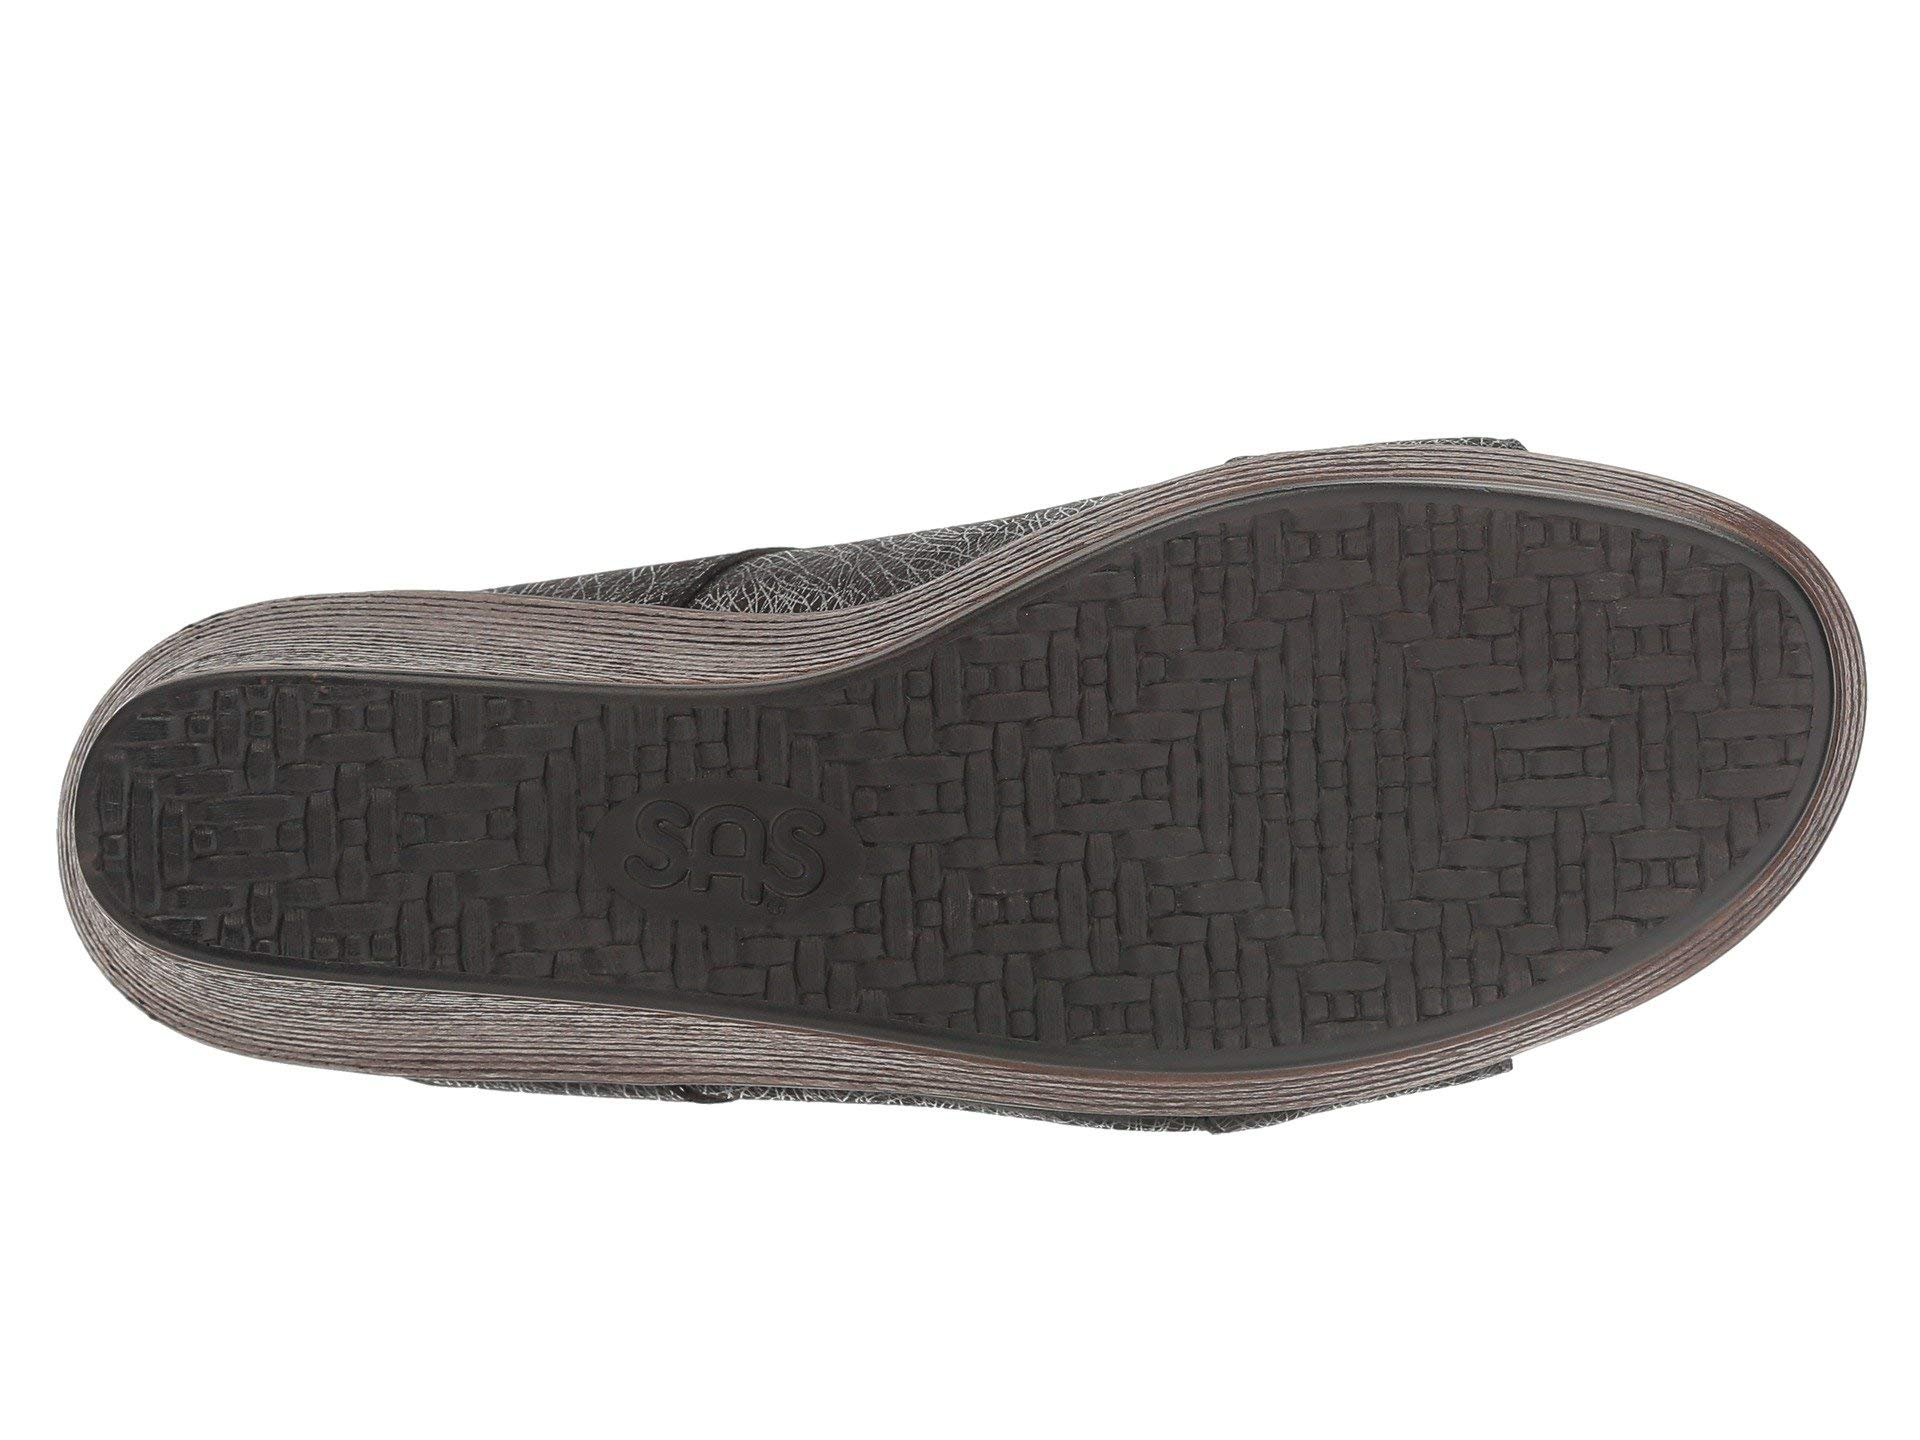quad: (1033, 585, 1433, 998)
